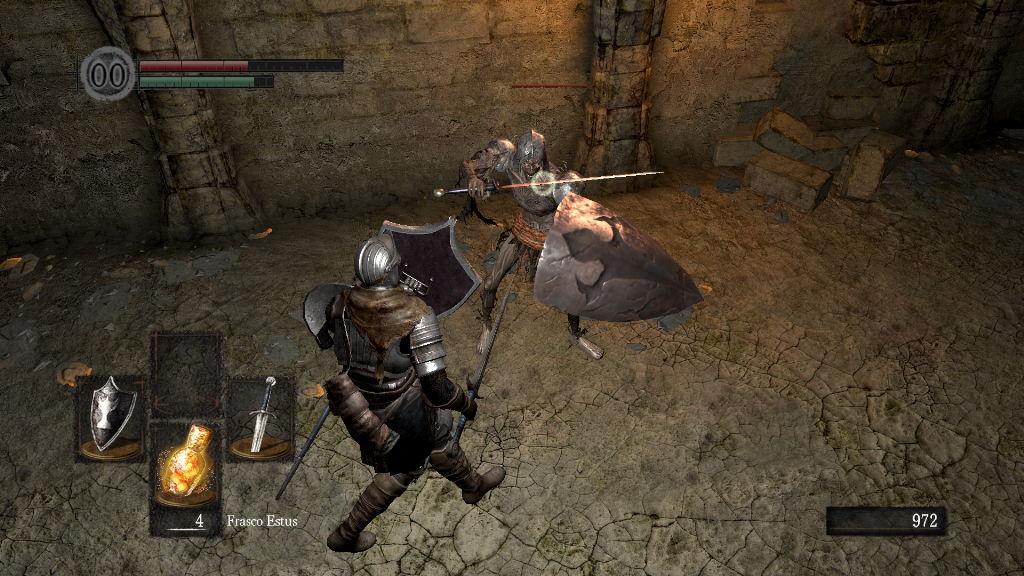health: (138, 58, 343, 71)
humanity: (80, 45, 136, 102)
player: (303, 216, 513, 555)
souls: (825, 506, 945, 536)
stamina: (138, 74, 274, 88)
undeadSoldier: (435, 131, 608, 363)
